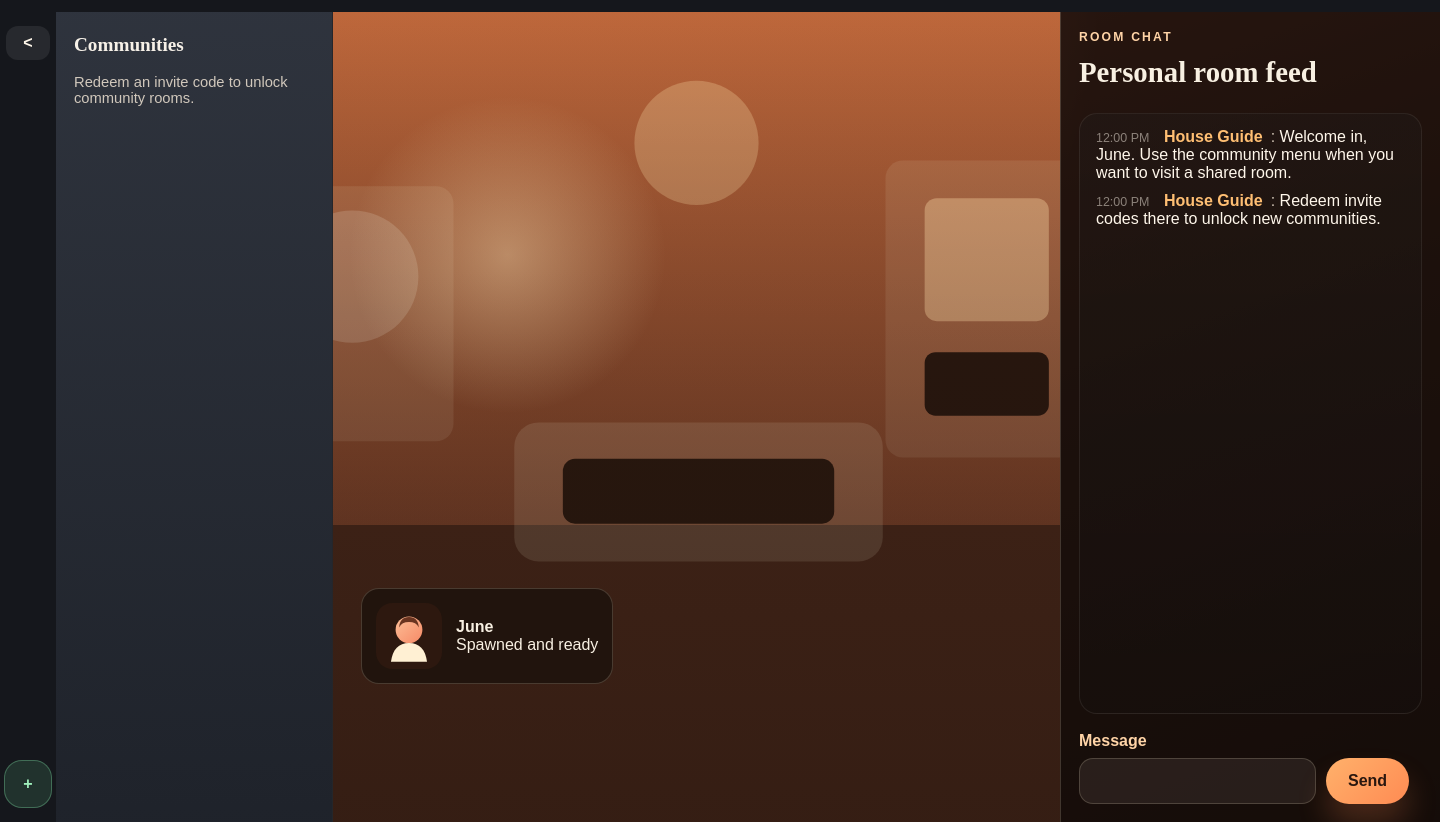
Test case: LobbyView › creates a community from the add-community workflow
Click the button named "Add community": point(28, 784) [4, 760, 52, 808]
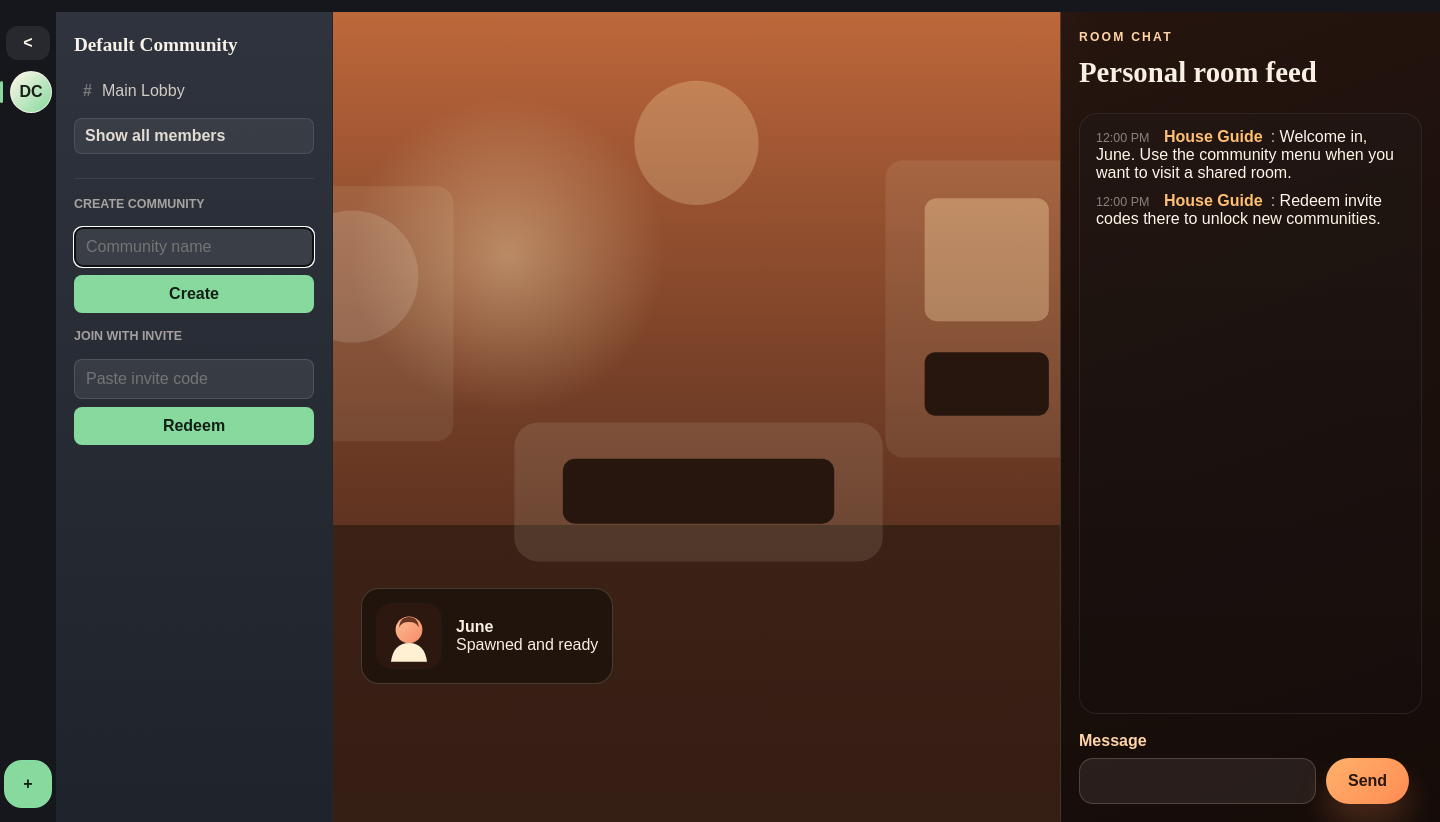
In the field labelled "Create community": point(194, 247) [74, 227, 314, 267], type "Friday Game Night"
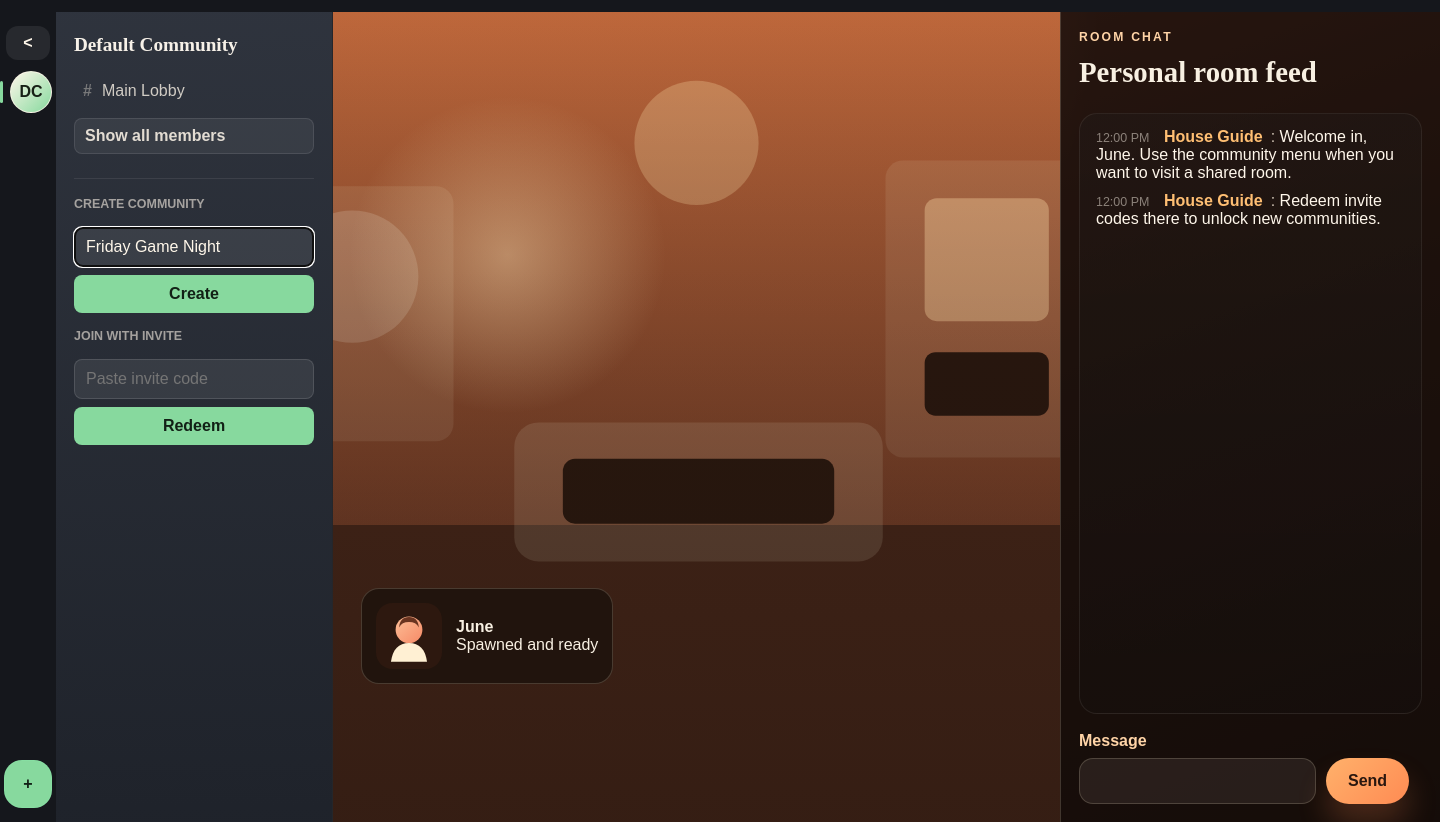
Click the button "Create": point(194, 294) [74, 275, 314, 313]
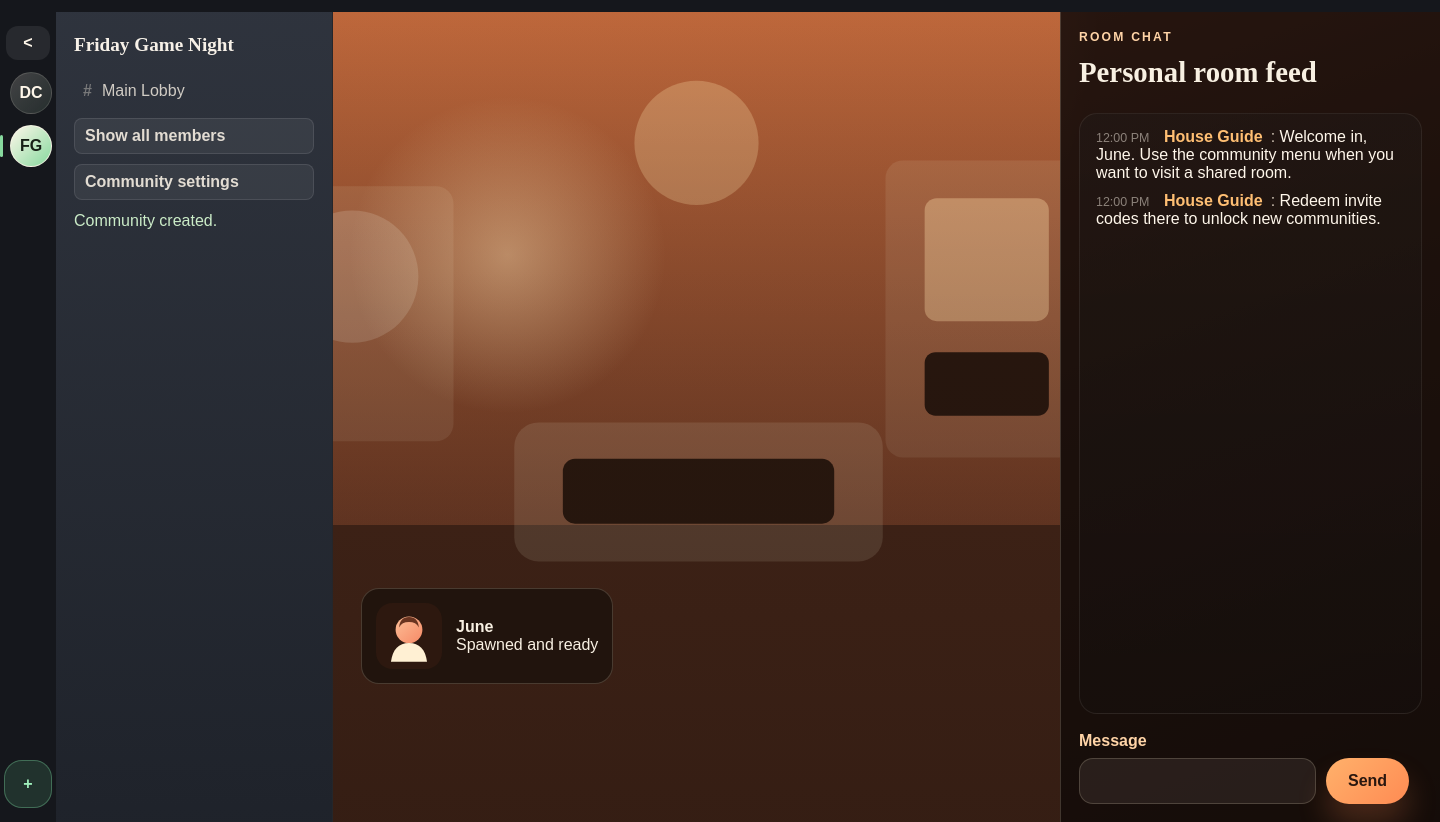
Check: the heading "Friday Game Night" is shown, box [74, 34, 234, 55]
